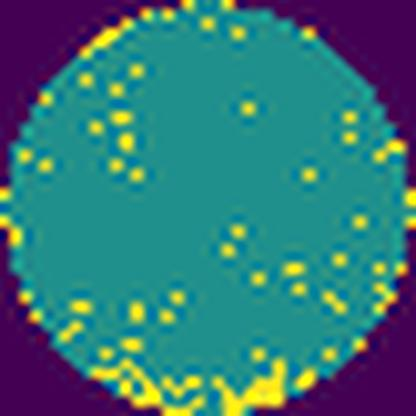Edge-Loc: (86, 355, 206, 415), (212, 352, 293, 416)
